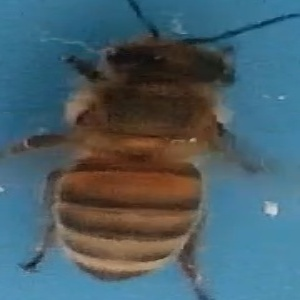bee: (25, 5, 285, 300)
